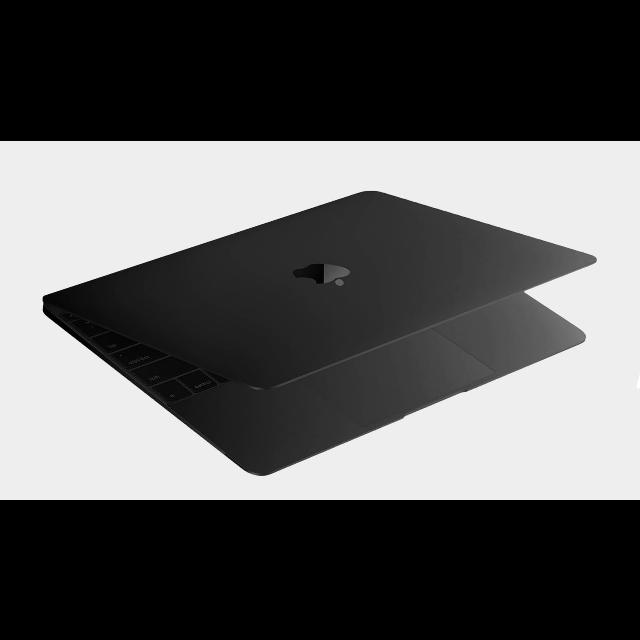laptop: (41, 173, 608, 491)
